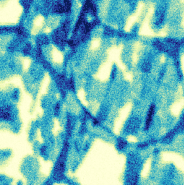hole_filled: (66, 35, 184, 143), (0, 26, 71, 185)
